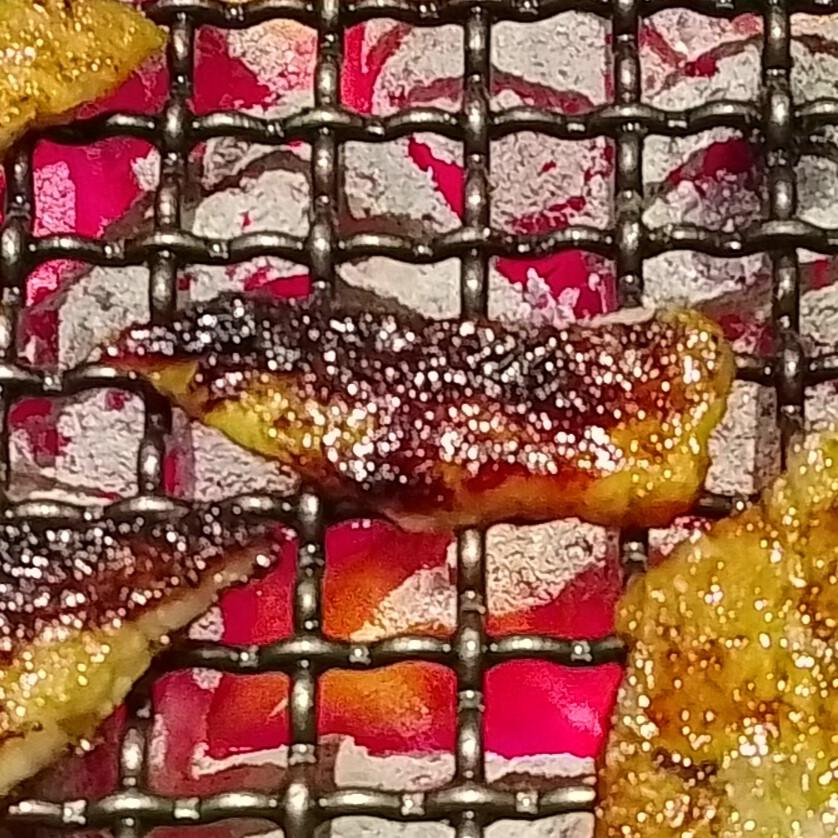Overcooked: (86, 295, 735, 531), (0, 505, 288, 796)
Well-Cooked: (596, 425, 837, 837), (0, 0, 167, 161)
